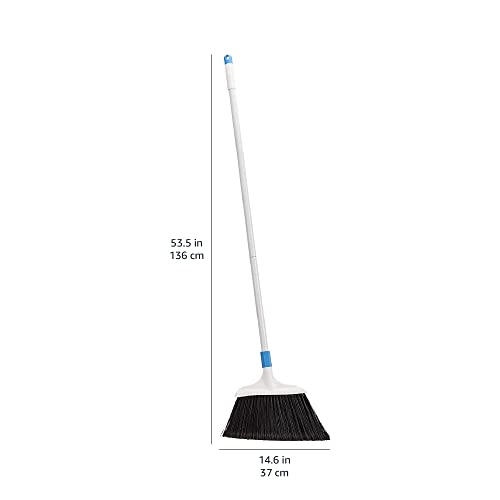535in: (171, 239, 202, 247)
